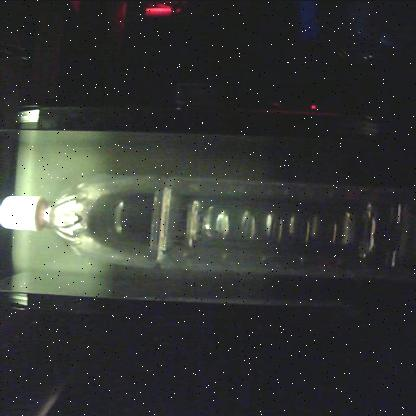Plastic Bottle: (0, 174, 416, 276)
